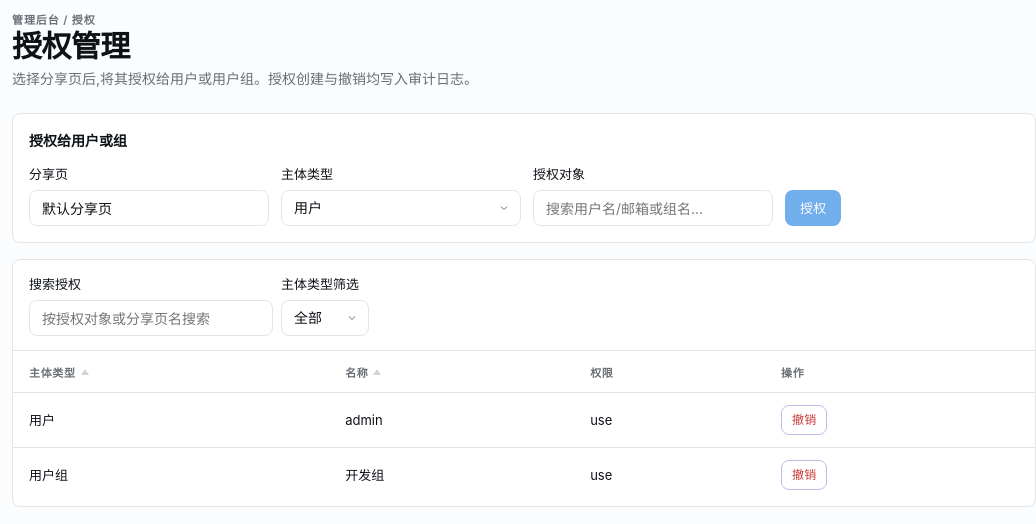
Test case: GrantsAdminPage › 切换分享页 — 调对应 grants 端点
The width and height of the screenshot is (1036, 524).
Expected: the row with test id "grant-row-user-u_admin" is shown, [13,393,1035,448]
切换到"其他分享页"(Issue 88:分享页选择换 combobox)
What coordinates should you click on to do the following:
click the dropdown labelled "分享页"
I would click on:
 (149, 208)
Its box is [29,190,269,226].
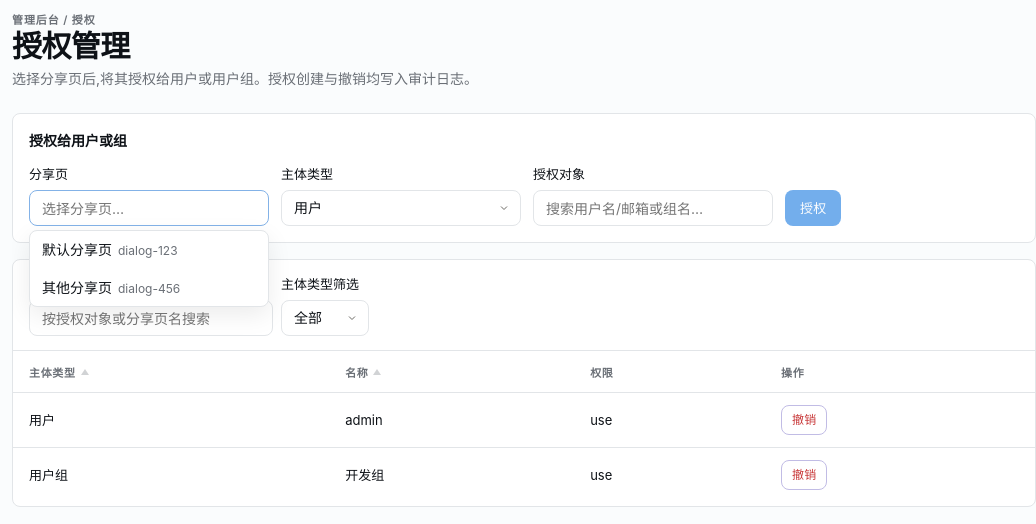
What coordinates should you click on to do the following:
click the option "其他分享页 dialog-456"
I would click on:
 (111, 287)
Its box is [42,279,180,296].
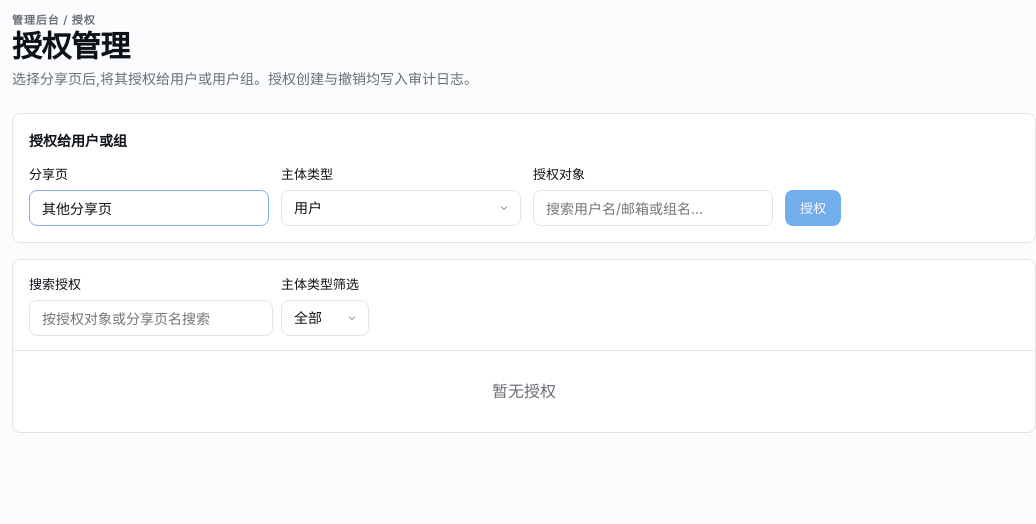
Result: the text "暂无授权" is shown at [492,381,556,401]
